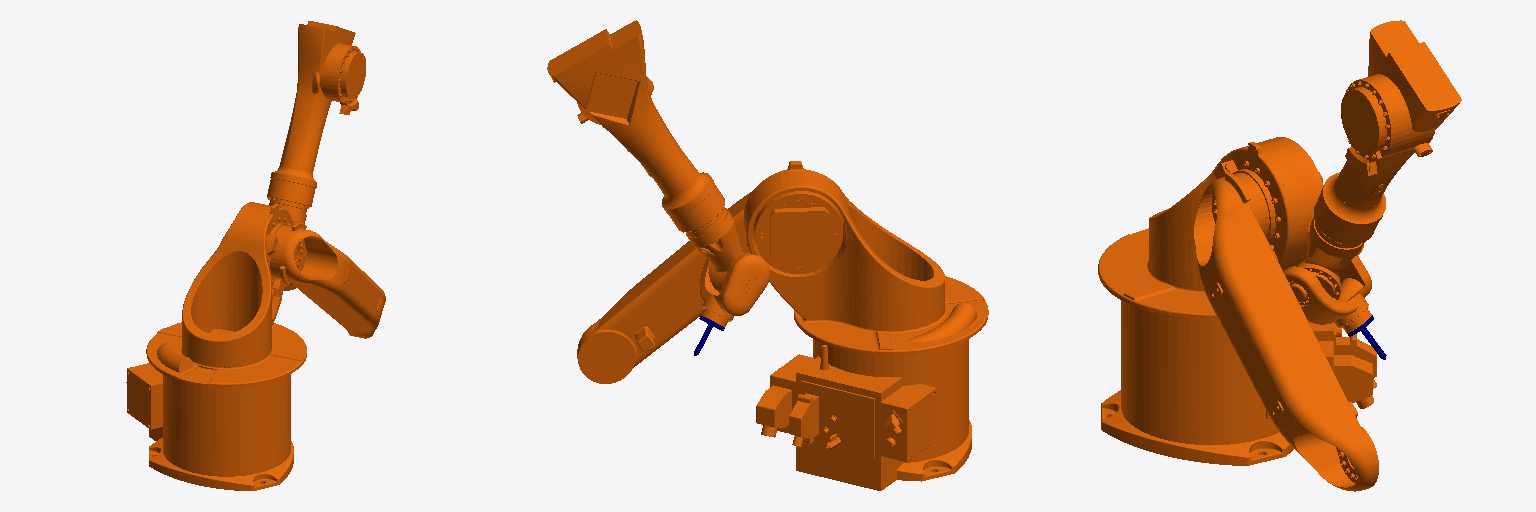
The robot description file, URDF, robot "kuka arm URDF":
<?xml version="1.0" encoding="utf-8"?>
<!-- This URDF was automatically created by SolidWorks to URDF Exporter! Originally created by Stephen Brawner (brawner@gmail.com) 
     Commit Version: 1.6.0-4-g7f85cfe  Build Version: 1.6.7995.38578
     For more information, please see http://wiki.ros.org/sw_urdf_exporter -->
<robot
  name="kuka arm URDF">
  <link
    name="base_link">
    <inertial>
      <origin
        xyz="0.0017101 0.043371 -0.20438"
        rpy="0 0 0" />
      <mass
        value="70.938" />
      <inertia
        ixx="2.1782"
        ixy="0.036"
        ixz="0"
        iyy="1.748"
        iyz="-0.061"
        izz="2.234" />
    </inertial>
    <visual>
      <origin
        xyz="0 0 0"
        rpy="0 0 0" />
      <geometry>
        <mesh
          filename="package://kuka arm URDF/meshes/base_link.STL" />
      </geometry>
      <material
        name="">
        <color
          rgba="0.91765 0.43922 0.066667 1" />
      </material>
    </visual>
    <collision>
      <origin
        xyz="0 0 0"
        rpy="0 0 0" />
      <geometry>
        <mesh
          filename="package://kuka arm URDF/meshes/base_link.STL" />
      </geometry>
    </collision>
  </link>
  <link
    name="link1">
    <inertial>
      <origin
        xyz="0.12067 0.084474 0.16276"
        rpy="0 0 0" />
      <mass
        value="20.075" />
      <inertia
        ixx="0.517"
        ixy="0.133"
        ixz="0.189"
        iyy="0.636"
        iyz="0.125"
        izz="0.544" />
    </inertial>
    <visual>
      <origin
        xyz="0 0 0"
        rpy="0 0 0" />
      <geometry>
        <mesh
          filename="package://kuka arm URDF/meshes/link1.STL" />
      </geometry>
      <material
        name="">
        <color
          rgba="0.91765 0.43922 0.066667 1" />
      </material>
    </visual>
    <collision>
      <origin
        xyz="0 0 0"
        rpy="0 0 0" />
      <geometry>
        <mesh
          filename="package://kuka arm URDF/meshes/link1.STL" />
      </geometry>
    </collision>
  </link>
  <joint
    name="joint1"
    type="revolute">
    <origin
      xyz="0 0 0"
      rpy="0 0 0" />
    <parent
      link="base_link" />
    <child
      link="link1" />
    <axis
      xyz="0 0 1" />
    <limit
      lower="-3.228"
      upper="3.228"
      effort="100"
      velocity="2.72" />
  </joint>
  <link
    name="link2">
    <inertial>
      <origin
        xyz="0.19877 0.23576 0.094679"
        rpy="0 0 0" />
      <mass
        value="13.476" />
      <inertia
        ixx="0.337"
        ixy="0.128"
        ixz="-0.209"
        iyy="0.474"
        iyz="-0.125"
        izz="0.345" />
    </inertial>
    <visual>
      <origin
        xyz="0 0 0"
        rpy="0 0 0" />
      <geometry>
        <mesh
          filename="package://kuka arm URDF/meshes/link2.STL" />
      </geometry>
      <material
        name="">
        <color
          rgba="0.91765 0.43922 0.066667 1" />
      </material>
    </visual>
    <collision>
      <origin
        xyz="0 0 0"
        rpy="0 0 0" />
      <geometry>
        <mesh
          filename="package://kuka arm URDF/meshes/link2.STL" />
      </geometry>
    </collision>
  </link>
  <joint
    name="joint2"
    type="revolute">
    <origin
      xyz="0.2564 0.086523 0.282"
      rpy="0.9645 1.5708 0" />
    <parent
      link="link1" />
    <child
      link="link2" />
    <axis
      xyz="0 0 1" />
    <limit
      lower="-2.705"
      upper="0.611"
      effort="100"
      velocity="2.72" />
  </joint>
  <link
    name="link3">
    <inertial>
      <origin
        xyz="0.10969 -0.0099279 0.11234"
        rpy="0 0 0" />
      <mass
        value="12.056" />
      <inertia
        ixx="0.232"
        ixy="0.167"
        ixz="0.097"
        iyy="0.31"
        iyz="0.074"
        izz="0.387" />
    </inertial>
    <visual>
      <origin
        xyz="0 0 0"
        rpy="0 0 0" />
      <geometry>
        <mesh
          filename="package://kuka arm URDF/meshes/link3.STL" />
      </geometry>
      <material
        name="">
        <color
          rgba="0.91765 0.43922 0.066667 1" />
      </material>
    </visual>
    <collision>
      <origin
        xyz="0 0 0"
        rpy="0 0 0" />
      <geometry>
        <mesh
          filename="package://kuka arm URDF/meshes/link3.STL" />
      </geometry>
    </collision>
  </link>
  <joint
    name="joint3"
    type="revolute">
    <origin
      xyz="-0.43805 0.52011 0.037"
      rpy="-3.1416 0 -3.1416" />
    <parent
      link="link2" />
    <child
      link="link3" />
    <axis
      xyz="0 0 1" />
    <limit
      lower="2.269"
      upper="2.688"
      effort="100"
      velocity="2.72" />
  </joint>
  <link
    name="link4">
    <inertial>
      <origin
        xyz="-0.0031294 -0.0055187 0.10865"
        rpy="0 0 0" />
      <mass
        value="2.439" />
      <inertia
        ixx="0.008"
        ixy="0.004"
        ixz="0.004"
        iyy="0.013"
        iyz="0.002"
        izz="0.013" />
    </inertial>
    <visual>
      <origin
        xyz="0 0 0"
        rpy="0 0 0" />
      <geometry>
        <mesh
          filename="package://kuka arm URDF/meshes/link4.STL" />
      </geometry>
      <material
        name="">
        <color
          rgba="0.91765 0.43922 0.066667 1" />
      </material>
    </visual>
    <collision>
      <origin
        xyz="0 0 0"
        rpy="0 0 0" />
      <geometry>
        <mesh
          filename="package://kuka arm URDF/meshes/link4.STL" />
      </geometry>
    </collision>
  </link>
  <joint
    name="joint4"
    type="revolute">
    <origin
      xyz="0.15493 0.45117 0.13"
      rpy="1.5708 0.25052 2.7636" />
    <parent
      link="link3" />
    <child
      link="link4" />
    <axis
      xyz="-0.95468 -0.24429 0.17003" />
    <limit
      lower="-6.109"
      upper="6.109"
      effort="100"
      velocity="5.76" />
  </joint>
  <link
    name="link5">
    <inertial>
      <origin
        xyz="0.050759 -0.011672 -0.066194"
        rpy="0 0 0" />
      <mass
        value="1.742" />
      <inertia
        ixx="0.009"
        ixy="0.001"
        ixz="0.001"
        iyy="0.009"
        iyz="-0.003"
        izz="0.01" />
    </inertial>
    <visual>
      <origin
        xyz="0 0 0"
        rpy="0 0 0" />
      <geometry>
        <mesh
          filename="package://kuka arm URDF/meshes/link5.STL" />
      </geometry>
      <material
        name="">
        <color
          rgba="0.91765 0.43922 0.066667 1" />
      </material>
    </visual>
    <collision>
      <origin
        xyz="0 0 0"
        rpy="0 0 0" />
      <geometry>
        <mesh
          filename="package://kuka arm URDF/meshes/link5.STL" />
      </geometry>
    </collision>
  </link>
  <joint
    name="joint5"
    type="revolute">
    <origin
      xyz="-0.010654 -0.061078 0.19"
      rpy="-1.5708 -0.96911 2.9689" />
    <parent
      link="link4" />
    <child
      link="link5" />
    <axis
      xyz="0.33012 -0.72979 0.59869" />
    <limit
      lower="-2.269"
      upper="2.269"
      effort="100"
      velocity="5.76" />
  </joint>
  <link
    name="link6">
    <inertial>
      <origin
        xyz="2.2204E-16 3.8164E-17 0.01899"
        rpy="0 0 0" />
      <mass
        value="0.061" />
      <inertia
        ixx="3.5E-05"
        ixy="9E-06"
        ixz="3E-06"
        iyy="5.7E-05"
        iyz="1E-06"
        izz="6E-05" />
    </inertial>
    <visual>
      <origin
        xyz="0 0 0"
        rpy="0 0 0" />
      <geometry>
        <mesh
          filename="package://kuka arm URDF/meshes/link6.STL" />
      </geometry>
      <material
        name="">
        <color
          rgba="0 0 0.50196 1" />
      </material>
    </visual>
    <collision>
      <origin
        xyz="0 0 0"
        rpy="0 0 0" />
      <geometry>
        <mesh
          filename="package://kuka arm URDF/meshes/link6.STL" />
      </geometry>
    </collision>
  </link>
  <joint
    name="joint6"
    type="fixed">
    <origin
      xyz="0.13649 0.079584 -0.065"
      rpy="-1.5708 0.67029 -1.0429" />
    <parent
      link="link5" />
    <child
      link="link6" />
    <axis
      xyz="0 0 0" />
  </joint>
</robot>

--- Render facts (derived) ---
Views: 3 orthographic renders of the robot side by side, from view 1: azimuth 30°, elevation 25°; view 2: azimuth 150°, elevation 25°; view 3: azimuth 270°, elevation 25°.
Model kuka arm URDF with 7 links and 6 joints (5 revolute, 1 fixed), rooted at base_link, posed all joints at 0 but 1 set to mid-range because 0 is outside their limits (joint3 = 2.48).
Links seen in each view (by area): view 1: link1, base_link, link3, link2; view 2: link1, base_link, link3, link2, link5, link4; view 3: link2, base_link, link3, link1, link5, link4.
Link boxes in pixels (x1,y1,x2,y2): link1: (146, 202, 306, 386); base_link: (126, 363, 293, 490); link3: (267, 21, 365, 210); link2: (270, 223, 385, 338); link1: (744, 161, 988, 354); base_link: (756, 339, 971, 490); link3: (547, 20, 724, 232); link2: (577, 170, 783, 383); link5: (700, 252, 769, 327); link4: (686, 207, 742, 292); link2: (1194, 172, 1378, 491); base_link: (1101, 300, 1376, 465); link3: (1314, 20, 1461, 244); link1: (1098, 137, 1323, 318); link5: (1284, 255, 1371, 332); link4: (1297, 218, 1364, 299).
Bounding box of the posed robot: 1.07 × 0.8646 × 1.31 m (x, y, z).
7 mesh visuals loaded from 7 distinct referenced files (7 binary STL).
